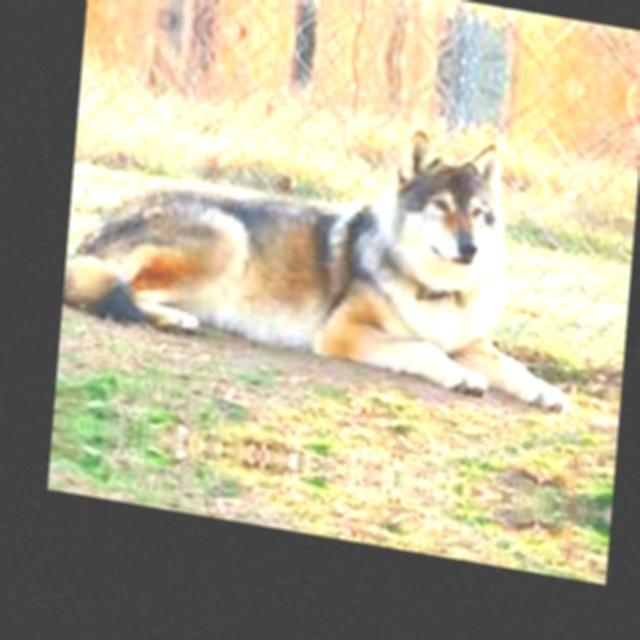dog: (74, 59, 586, 476), (66, 452, 553, 576), (110, 0, 594, 41)
